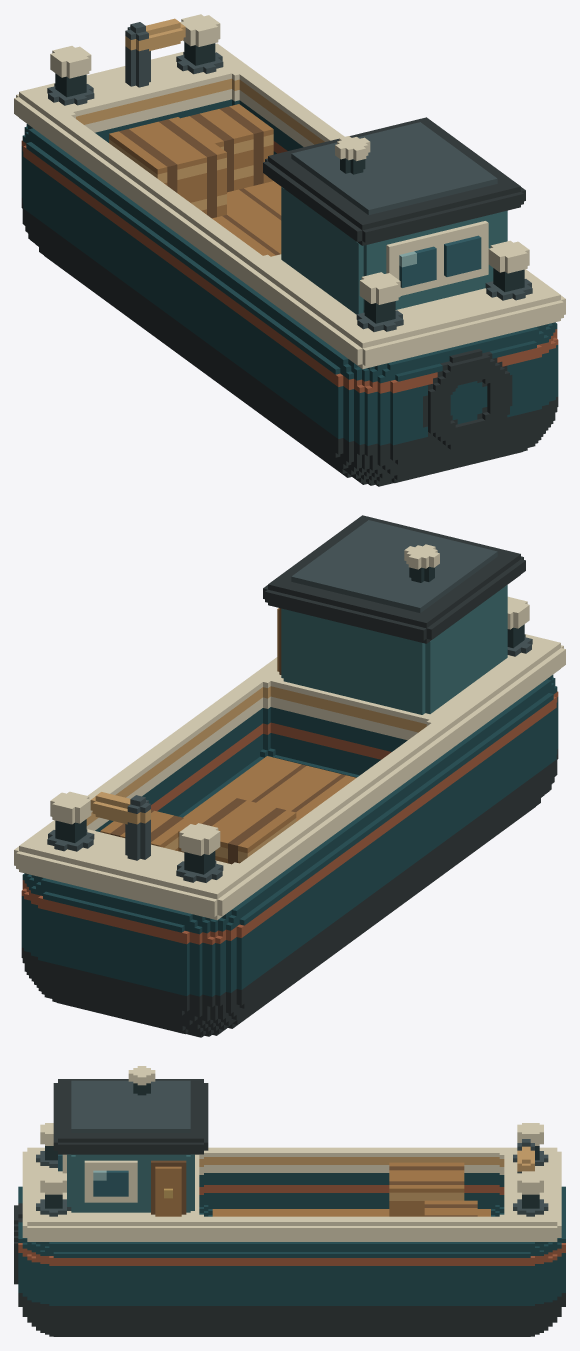
File: canal_boat.glb
3 renders of one model, top to bottom at view 1: azimuth 30°, elevation 25°; view 2: azimuth 150°, elevation 25°; view 3: azimuth 270°, elevation 25°, orthographic. The views are drawn at different scales.
Visible parts, largest first — view 1: canal_boat; view 2: canal_boat; view 3: canal_boat.
Boxes of the visible parts, bbox=[...] form: canal_boat: bbox=[14, 14, 565, 486]; canal_boat: bbox=[14, 515, 565, 1037]; canal_boat: bbox=[14, 1066, 565, 1336].
Size of the model in its own units: 2.86 by 3.64 by 8.12.
